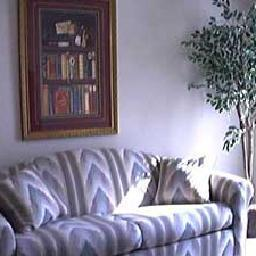Matera: (203, 20, 255, 237)
